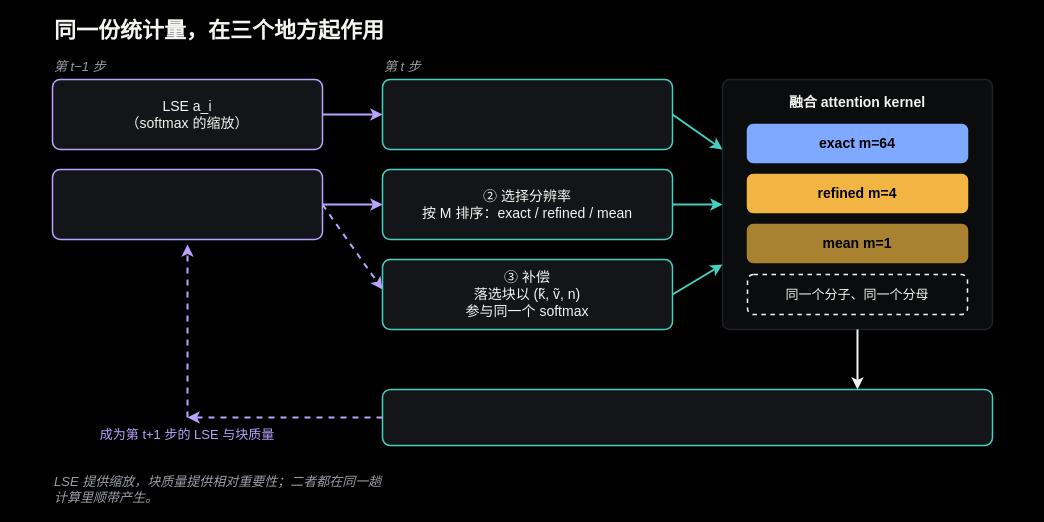
The diagram is 1044 pixels wide and 522 high, and some of its shapes have lost their labels. The shapes that lost their labels are listed below. From the top down, each one's centre as x and y in pixels, then its label:
At (x=527, y=114): "① 固定 offset 用 a_i 代替行最大值".
At (x=187, y=204): "块质量图 M_ab （块之间的相对重要性）".
At (x=687, y=417): "输出 õ + 新的 LSE、新的块质量".
